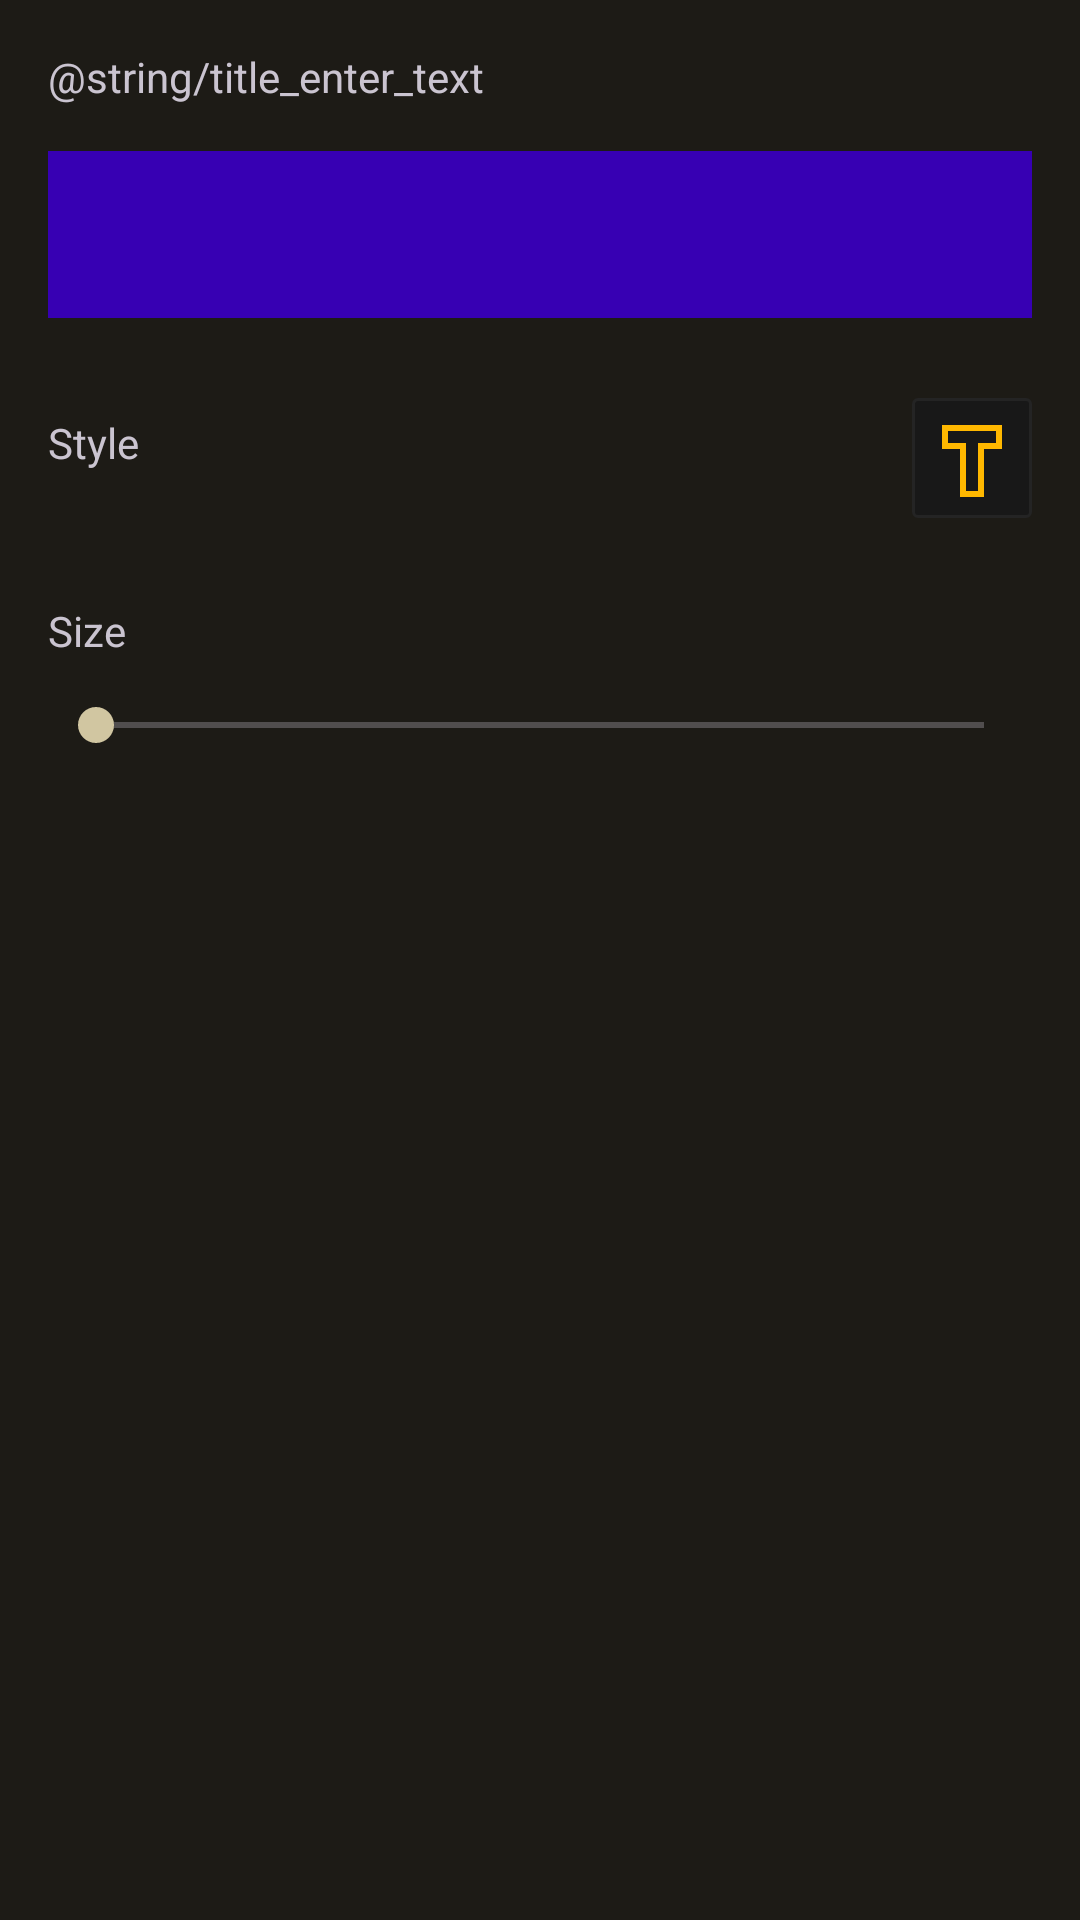

Icons on this 1080px×1920px Android screen, each with the point to tap as (x,y):
text style stroke: (972,461)
